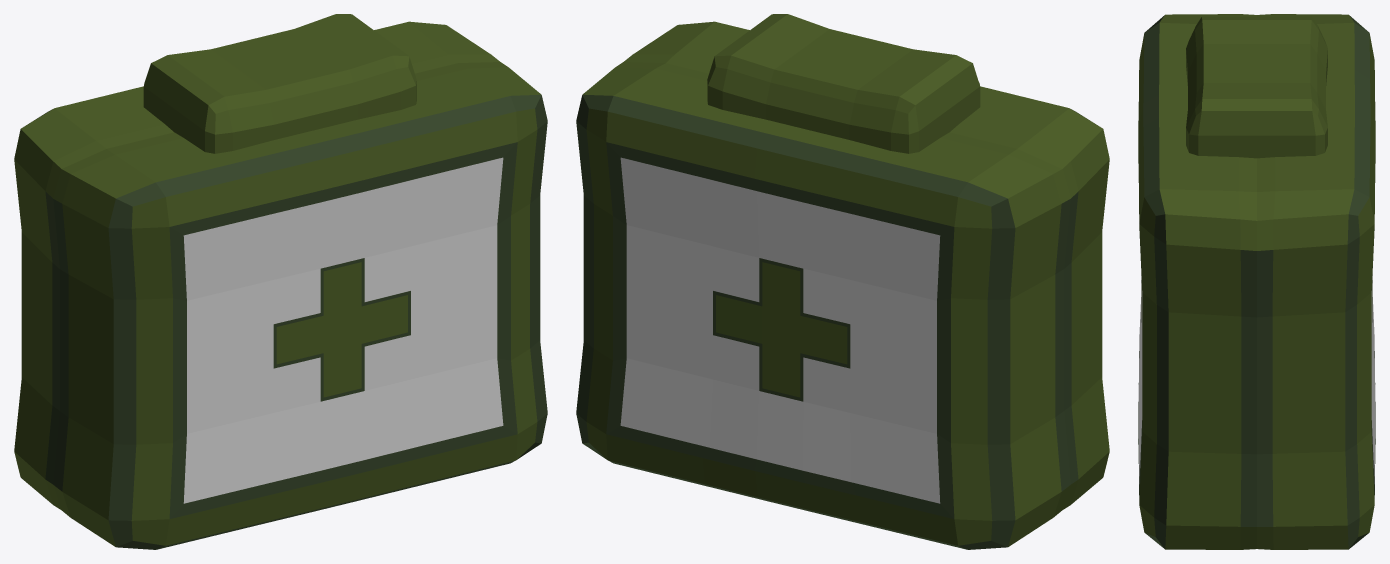
The model's file is FirstAidKit.glb.
The picture shows the model from 3 angles, left to right: view 1: azimuth 30°, elevation 25°; view 2: azimuth 150°, elevation 25°; view 3: azimuth 270°, elevation 25°; orthographic projection. The views are drawn at different scales.
Parts seen in each view (by area): view 1: FirstAidKit; view 2: FirstAidKit; view 3: FirstAidKit.
Part boxes in pixels (left/top/right/bottom): FirstAidKit: left=14, top=14, right=547, bottom=549; FirstAidKit: left=576, top=14, right=1109, bottom=549; FirstAidKit: left=1138, top=14, right=1375, bottom=549.
Size of the model in its own units: 1.56 by 1.36 by 0.7333.
